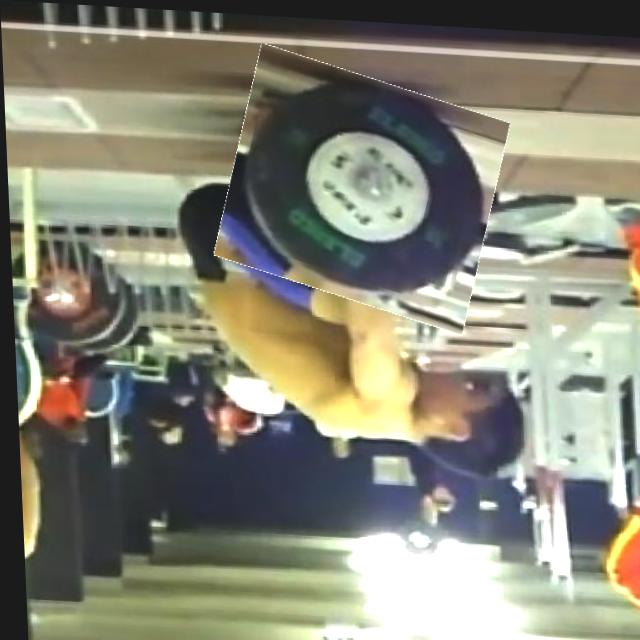barbell: (217, 54, 505, 318)
